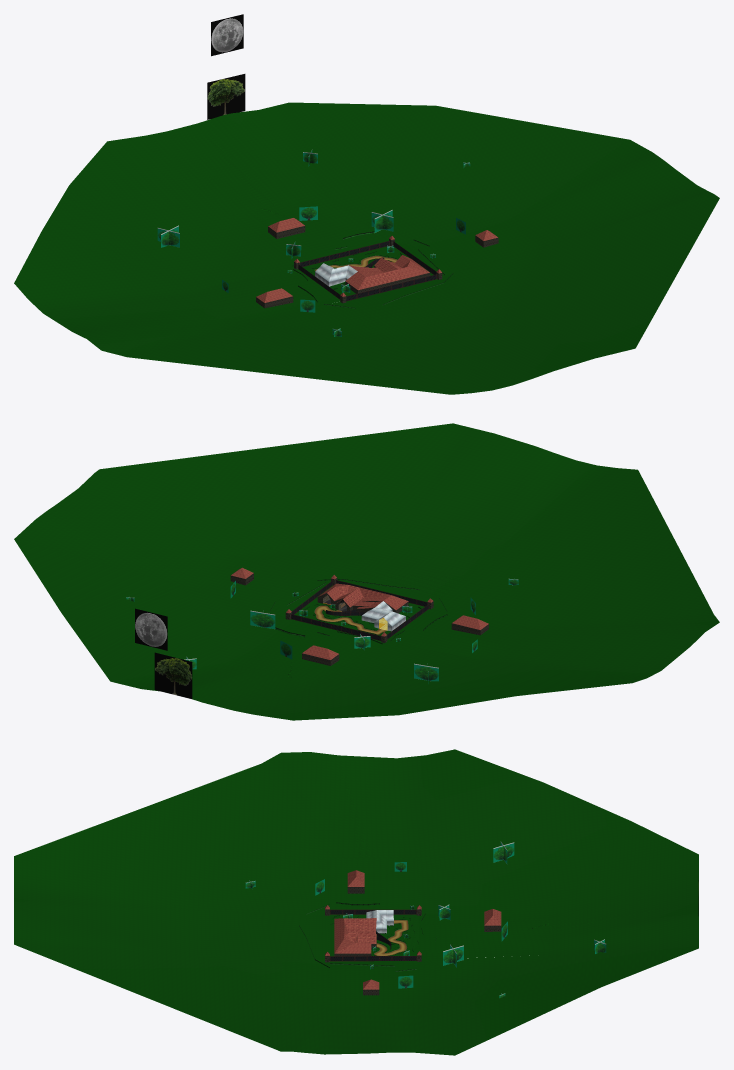
3 views of the same model, one above another, from view 1: azimuth 30°, elevation 25°; view 2: azimuth 150°, elevation 25°; view 3: azimuth 270°, elevation 25° (orthographic).
Parts seen in each view (by area): view 1: FencedOutGrassOff-Road, Roof, Fence.004, Bushes.001, RealisticTree, OutSideWall, Moon.001, FencedInGrassOff-Road, Trees.001, GreenHouse; view 2: FencedOutGrassOff-Road, Roof, Fence.004, RealisticTree, Bushes.001, OutSideWall, Moon.001, FencedInGrassOff-Road, GrassTufts, GreenHouse; view 3: FencedOutGrassOff-Road, Roof, FencedInGrassOff-Road, Bushes.001, Fence.004, OutSideWall, GrassTufts, Trees.001.
Boxes of the visible parts, x1=… form: FencedOutGrassOff-Road: x1=14, y1=102, x2=719, y2=394; Roof: x1=256, y1=218, x2=497, y2=302; Fence.004: x1=298, y1=240, x2=437, y2=301; Bushes.001: x1=157, y1=149, x2=470, y2=336; RealisticTree: x1=207, y1=74, x2=245, y2=119; OutSideWall: x1=256, y1=226, x2=498, y2=308; Moon.001: x1=211, y1=14, x2=243, y2=56; FencedInGrassOff-Road: x1=302, y1=246, x2=433, y2=296; Trees.001: x1=222, y1=206, x2=465, y2=312; GreenHouse: x1=315, y1=263, x2=357, y2=286; FencedOutGrassOff-Road: x1=14, y1=423, x2=719, y2=720; Roof: x1=231, y1=567, x2=488, y2=659; Fence.004: x1=291, y1=580, x2=429, y2=640; RealisticTree: x1=154, y1=652, x2=192, y2=698; Bushes.001: x1=126, y1=578, x2=518, y2=683; OutSideWall: x1=230, y1=573, x2=488, y2=665; Moon.001: x1=135, y1=608, x2=167, y2=650; FencedInGrassOff-Road: x1=294, y1=585, x2=424, y2=635; GrassTufts: x1=270, y1=579, x2=447, y2=644; GreenHouse: x1=361, y1=601, x2=405, y2=631; FencedOutGrassOff-Road: x1=14, y1=749, x2=698, y2=1055; Roof: x1=325, y1=870, x2=501, y2=989; FencedInGrassOff-Road: x1=327, y1=914, x2=419, y2=956; Bushes.001: x1=245, y1=841, x2=606, y2=998; Fence.004: x1=330, y1=909, x2=416, y2=961; OutSideWall: x1=325, y1=887, x2=501, y2=995; GrassTufts: x1=299, y1=902, x2=452, y2=971; Trees.001: x1=315, y1=862, x2=507, y2=988.
Size of the model in its own units: 475427 by 88573 by 471959.
Materials: 24 (24 with a texture image).
